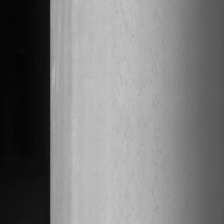silk_spot: (111, 5, 147, 171)
